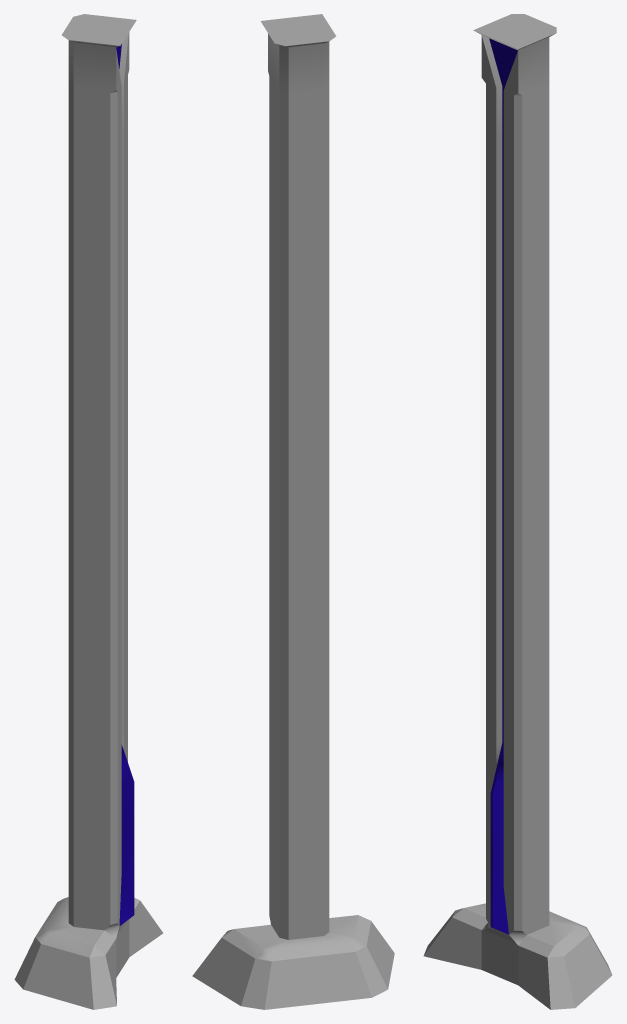
Rendered from Geo_Pillar.fbx.
3 views of the same model, side by side, from view 1: azimuth 30°, elevation 25°; view 2: azimuth 150°, elevation 25°; view 3: azimuth 270°, elevation 25° (orthographic).
Parts seen in each view (by area): view 1: Geo_Pillar_1; view 2: Geo_Pillar_1; view 3: Geo_Pillar_1.
Part boxes in pixels (left/top/right/bottom): Geo_Pillar_1: left=14, top=14, right=162, bottom=1009; Geo_Pillar_1: left=192, top=14, right=394, bottom=1009; Geo_Pillar_1: left=423, top=14, right=612, bottom=1009.
Bounding box in the file's own units: 366 × 2010 × 366.
